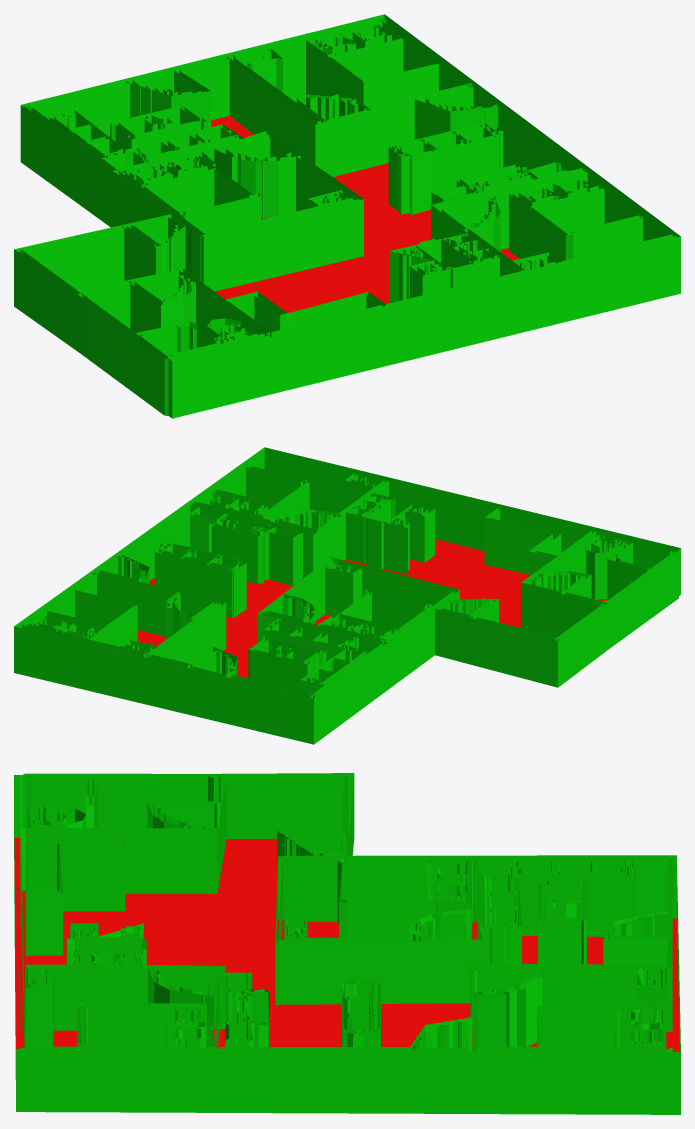
The picture shows the model from 3 angles, top to bottom: view 1: azimuth 30°, elevation 25°; view 2: azimuth 150°, elevation 25°; view 3: azimuth 270°, elevation 25°; orthographic projection. The views are drawn at different scales.
Parts seen in each view (by area): view 1: Wall_0, Wall_89, Floor, Wall_48, Wall_114, Wall_88, Wall_23, Wall_86, Wall_92, Wall_113, Wall_68, Wall_44 (+24 smaller); view 2: Wall_0, Wall_89, Floor, Wall_101, Wall_88, Wall_48, Wall_23, Wall_114, Wall_86, Wall_92, Wall_90, Wall_113 (+20 smaller); view 3: Wall_0, Wall_89, Floor, Wall_23, Wall_48, Wall_88, Wall_86, Wall_68, Wall_44, Wall_111, Wall_13, Wall_90 (+29 smaller).
Boxes of the visible parts, bbox=[...] form: Wall_0: bbox=[14, 14, 680, 418]; Wall_89: bbox=[25, 58, 582, 327]; Floor: bbox=[211, 116, 519, 312]; Wall_48: bbox=[178, 148, 341, 233]; Wall_114: bbox=[78, 294, 269, 415]; Wall_88: bbox=[470, 172, 672, 265]; Wall_23: bbox=[245, 40, 466, 110]; Wall_86: bbox=[86, 282, 264, 344]; Wall_92: bbox=[389, 123, 503, 214]; Wall_113: bbox=[272, 106, 676, 336]; Wall_68: bbox=[531, 189, 639, 235]; Wall_44: bbox=[143, 169, 253, 214]; Wall_0: bbox=[14, 447, 680, 744]; Wall_89: bbox=[122, 481, 600, 693]; Floor: bbox=[137, 508, 607, 677]; Wall_101: bbox=[190, 507, 302, 585]; Wall_88: bbox=[195, 451, 373, 522]; Wall_48: bbox=[287, 567, 453, 625]; Wall_23: bbox=[74, 573, 193, 650]; Wall_114: bbox=[596, 530, 678, 647]; Wall_86: bbox=[539, 532, 647, 601]; Wall_92: bbox=[154, 543, 246, 617]; Wall_90: bbox=[248, 636, 326, 690]; Wall_113: bbox=[118, 449, 594, 556]; Wall_0: bbox=[14, 773, 680, 1114]; Wall_89: bbox=[25, 776, 666, 1050]; Floor: bbox=[14, 838, 679, 1051]; Wall_23: bbox=[478, 967, 666, 1047]; Wall_48: bbox=[284, 858, 471, 940]; Wall_88: bbox=[25, 967, 213, 1046]; Wall_86: bbox=[26, 776, 213, 828]; Wall_68: bbox=[83, 1004, 165, 1046]; Wall_44: bbox=[342, 860, 426, 902]; Wall_111: bbox=[25, 831, 118, 892]; Wall_13: bbox=[540, 1006, 615, 1046]; Wall_90: bbox=[538, 881, 587, 964].
Size of the model in its own units: 95 by 10 by 96.
